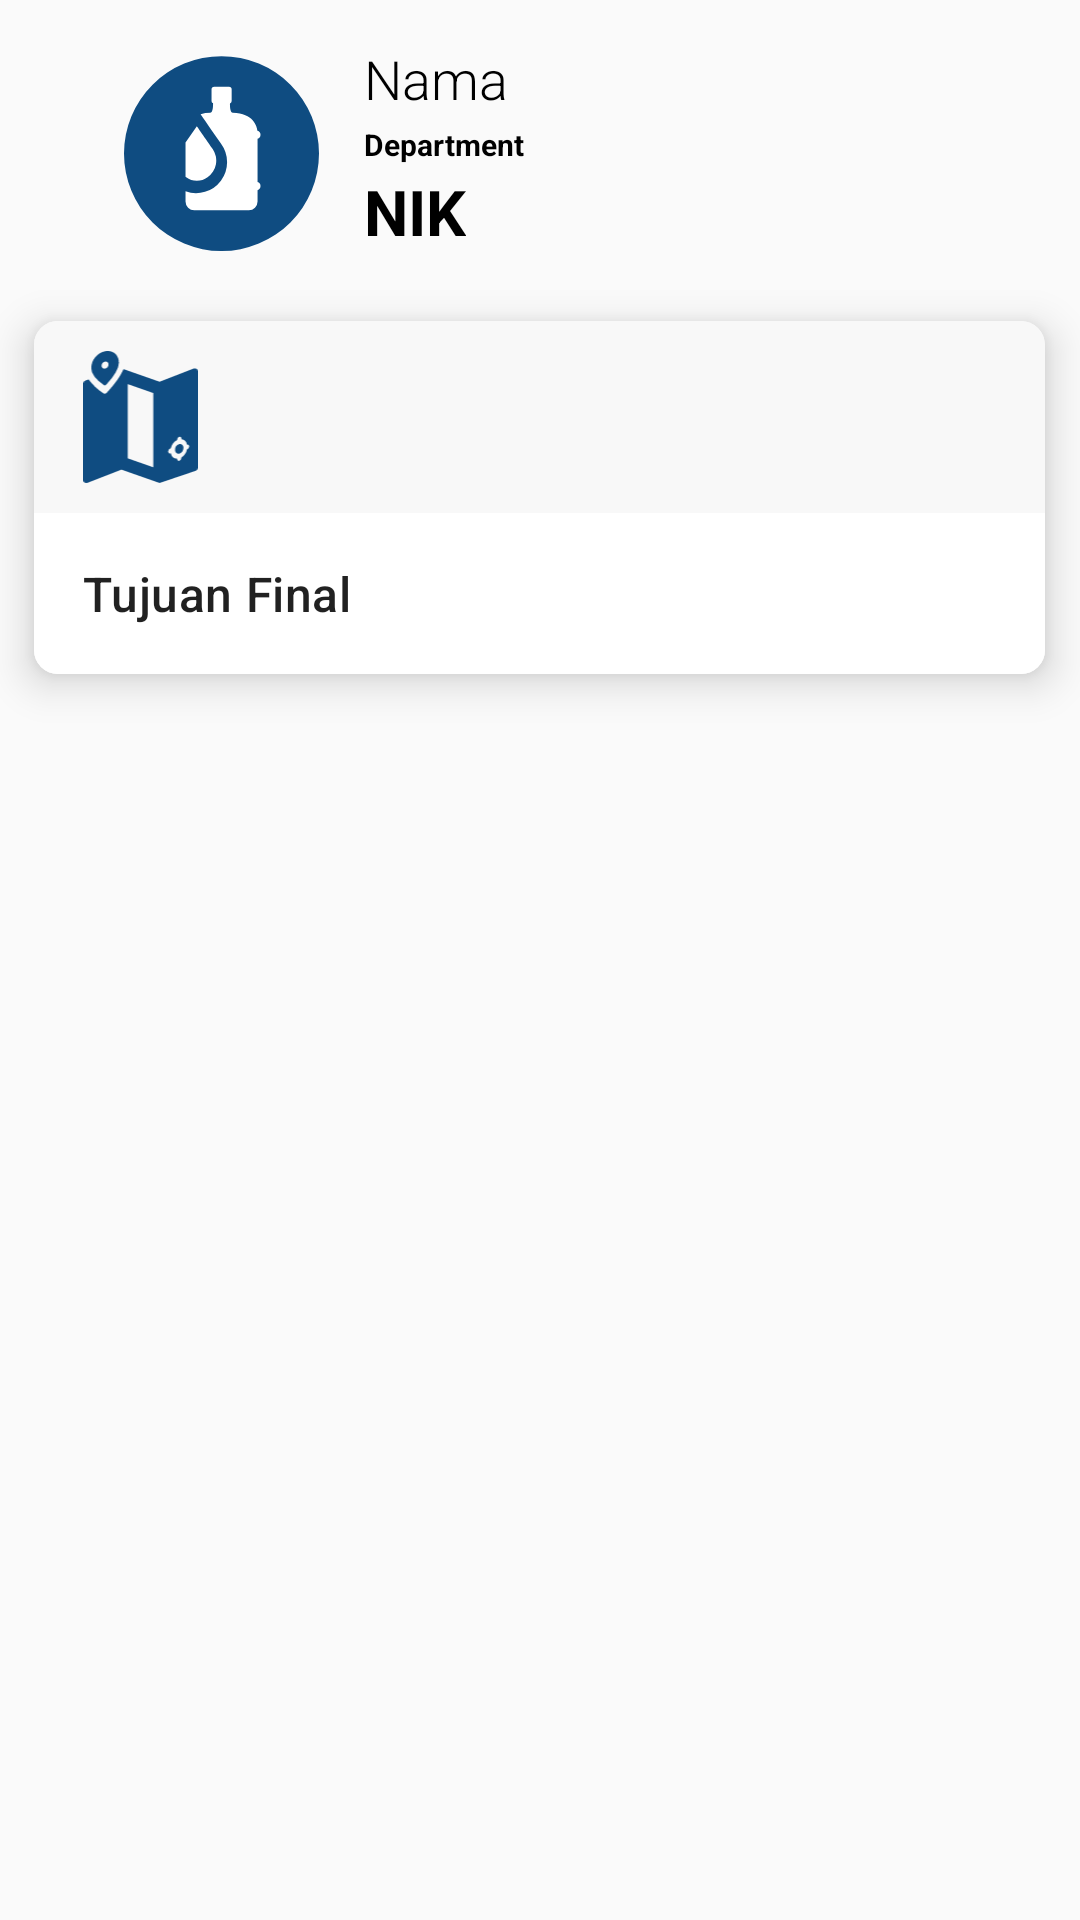

Icons on this 1080w x 1920h Android screen, each with its box as (x1, y1, x2, y2):
lokasi: (83, 351, 198, 483)
